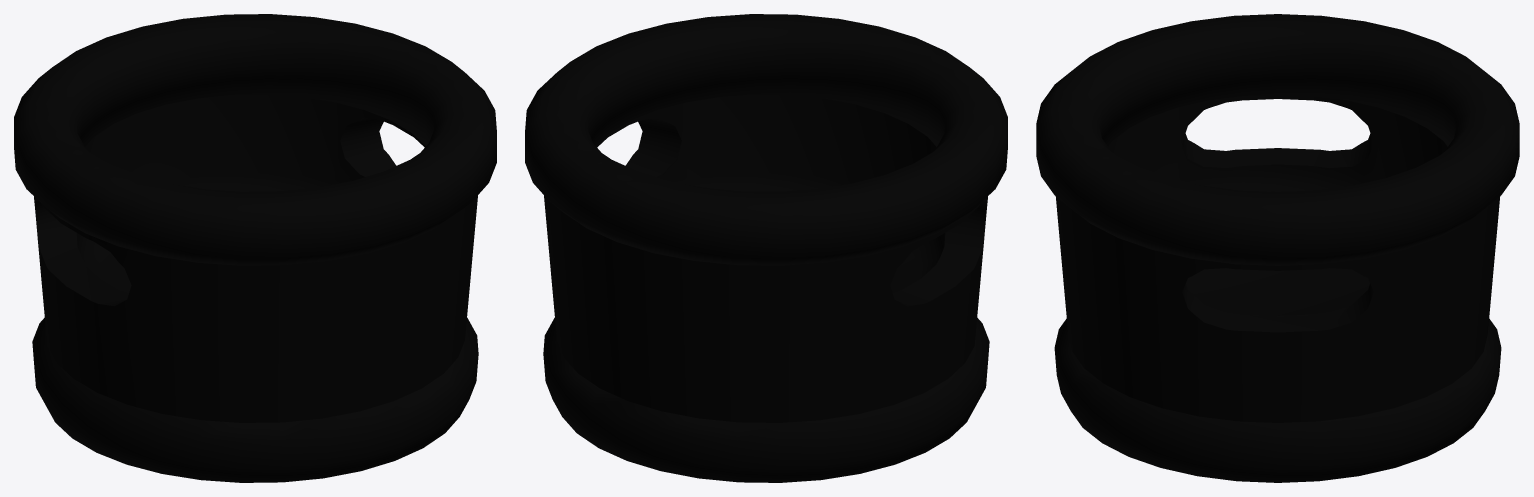
Rendered from basket.fbx.
3 renders of one model, left to right at view 1: azimuth 30°, elevation 25°; view 2: azimuth 150°, elevation 25°; view 3: azimuth 270°, elevation 25°, orthographic.
Parts seen in each view (by area): view 1: Cylinder.006, Cylinder.008, Cylinder.007; view 2: Cylinder.006, Cylinder.008, Cylinder.007; view 3: Cylinder.006, Cylinder.008, Cylinder.007.
Boxes of the visible parts, bbox=[...] form: Cylinder.006: bbox=[34, 94, 477, 422]; Cylinder.008: bbox=[14, 14, 496, 265]; Cylinder.007: bbox=[32, 317, 478, 482]; Cylinder.006: bbox=[544, 94, 987, 422]; Cylinder.008: bbox=[525, 14, 1007, 265]; Cylinder.007: bbox=[543, 317, 989, 482]; Cylinder.006: bbox=[1055, 94, 1500, 422]; Cylinder.008: bbox=[1036, 14, 1519, 265]; Cylinder.007: bbox=[1054, 318, 1501, 482].
Bounding box in the file's own units: 0.3744 × 0.3744 × 0.2493.
